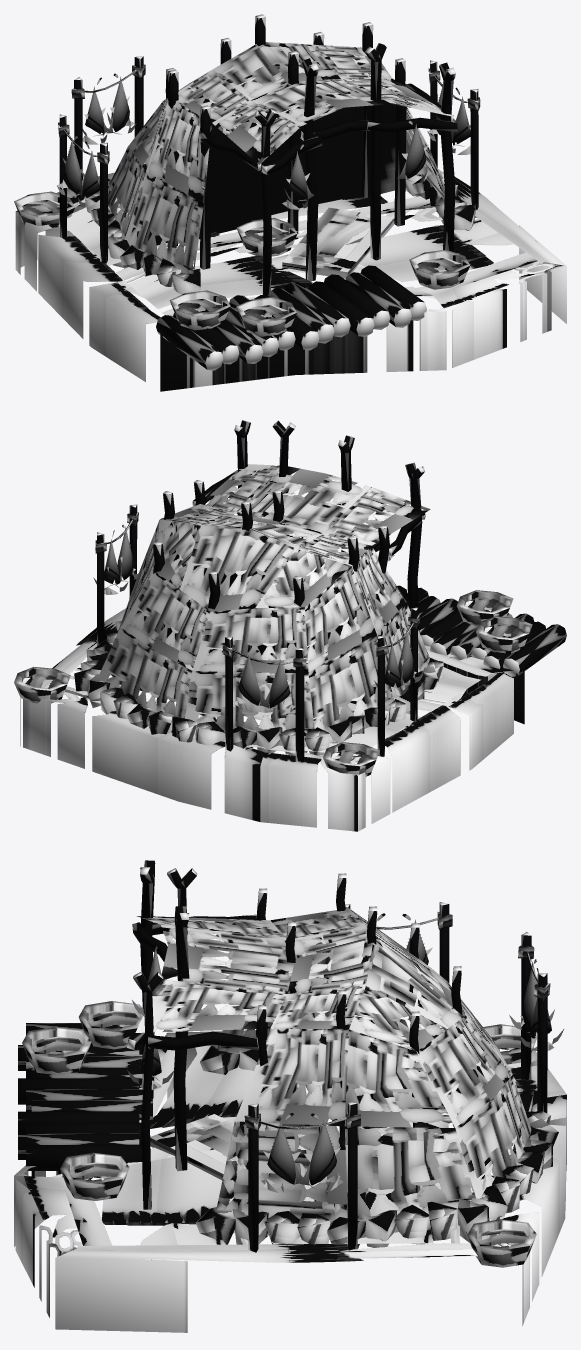
File: dock.dae
3 views of the same model, one above another, from view 1: azimuth 30°, elevation 25°; view 2: azimuth 150°, elevation 25°; view 3: azimuth 270°, elevation 25° (orthographic). The views are drawn at different scales.
Parts seen in each view (by area): view 1: dock; view 2: dock; view 3: dock.
Boxes of the visible parts, x1,y1,x2,y2 form: dock: (14, 14, 566, 391); dock: (14, 420, 566, 831); dock: (14, 860, 566, 1332).
Bounding box in the file's own units: 14.48 × 14.42 × 9.71.
